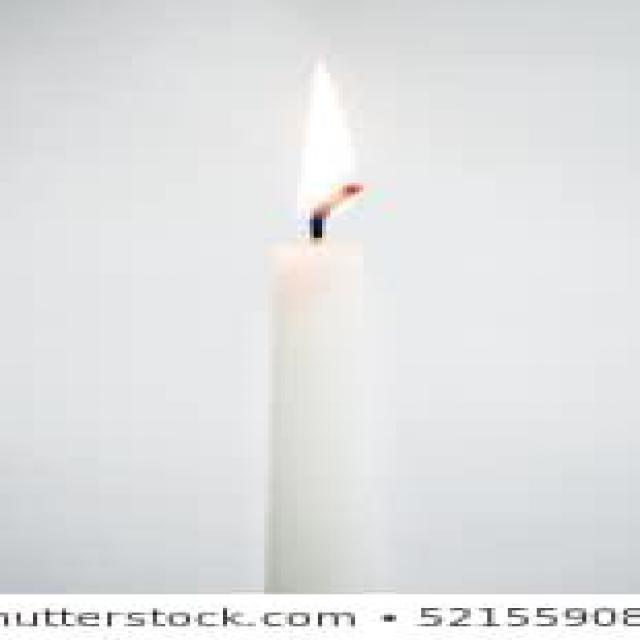Fire: (302, 52, 364, 231)
